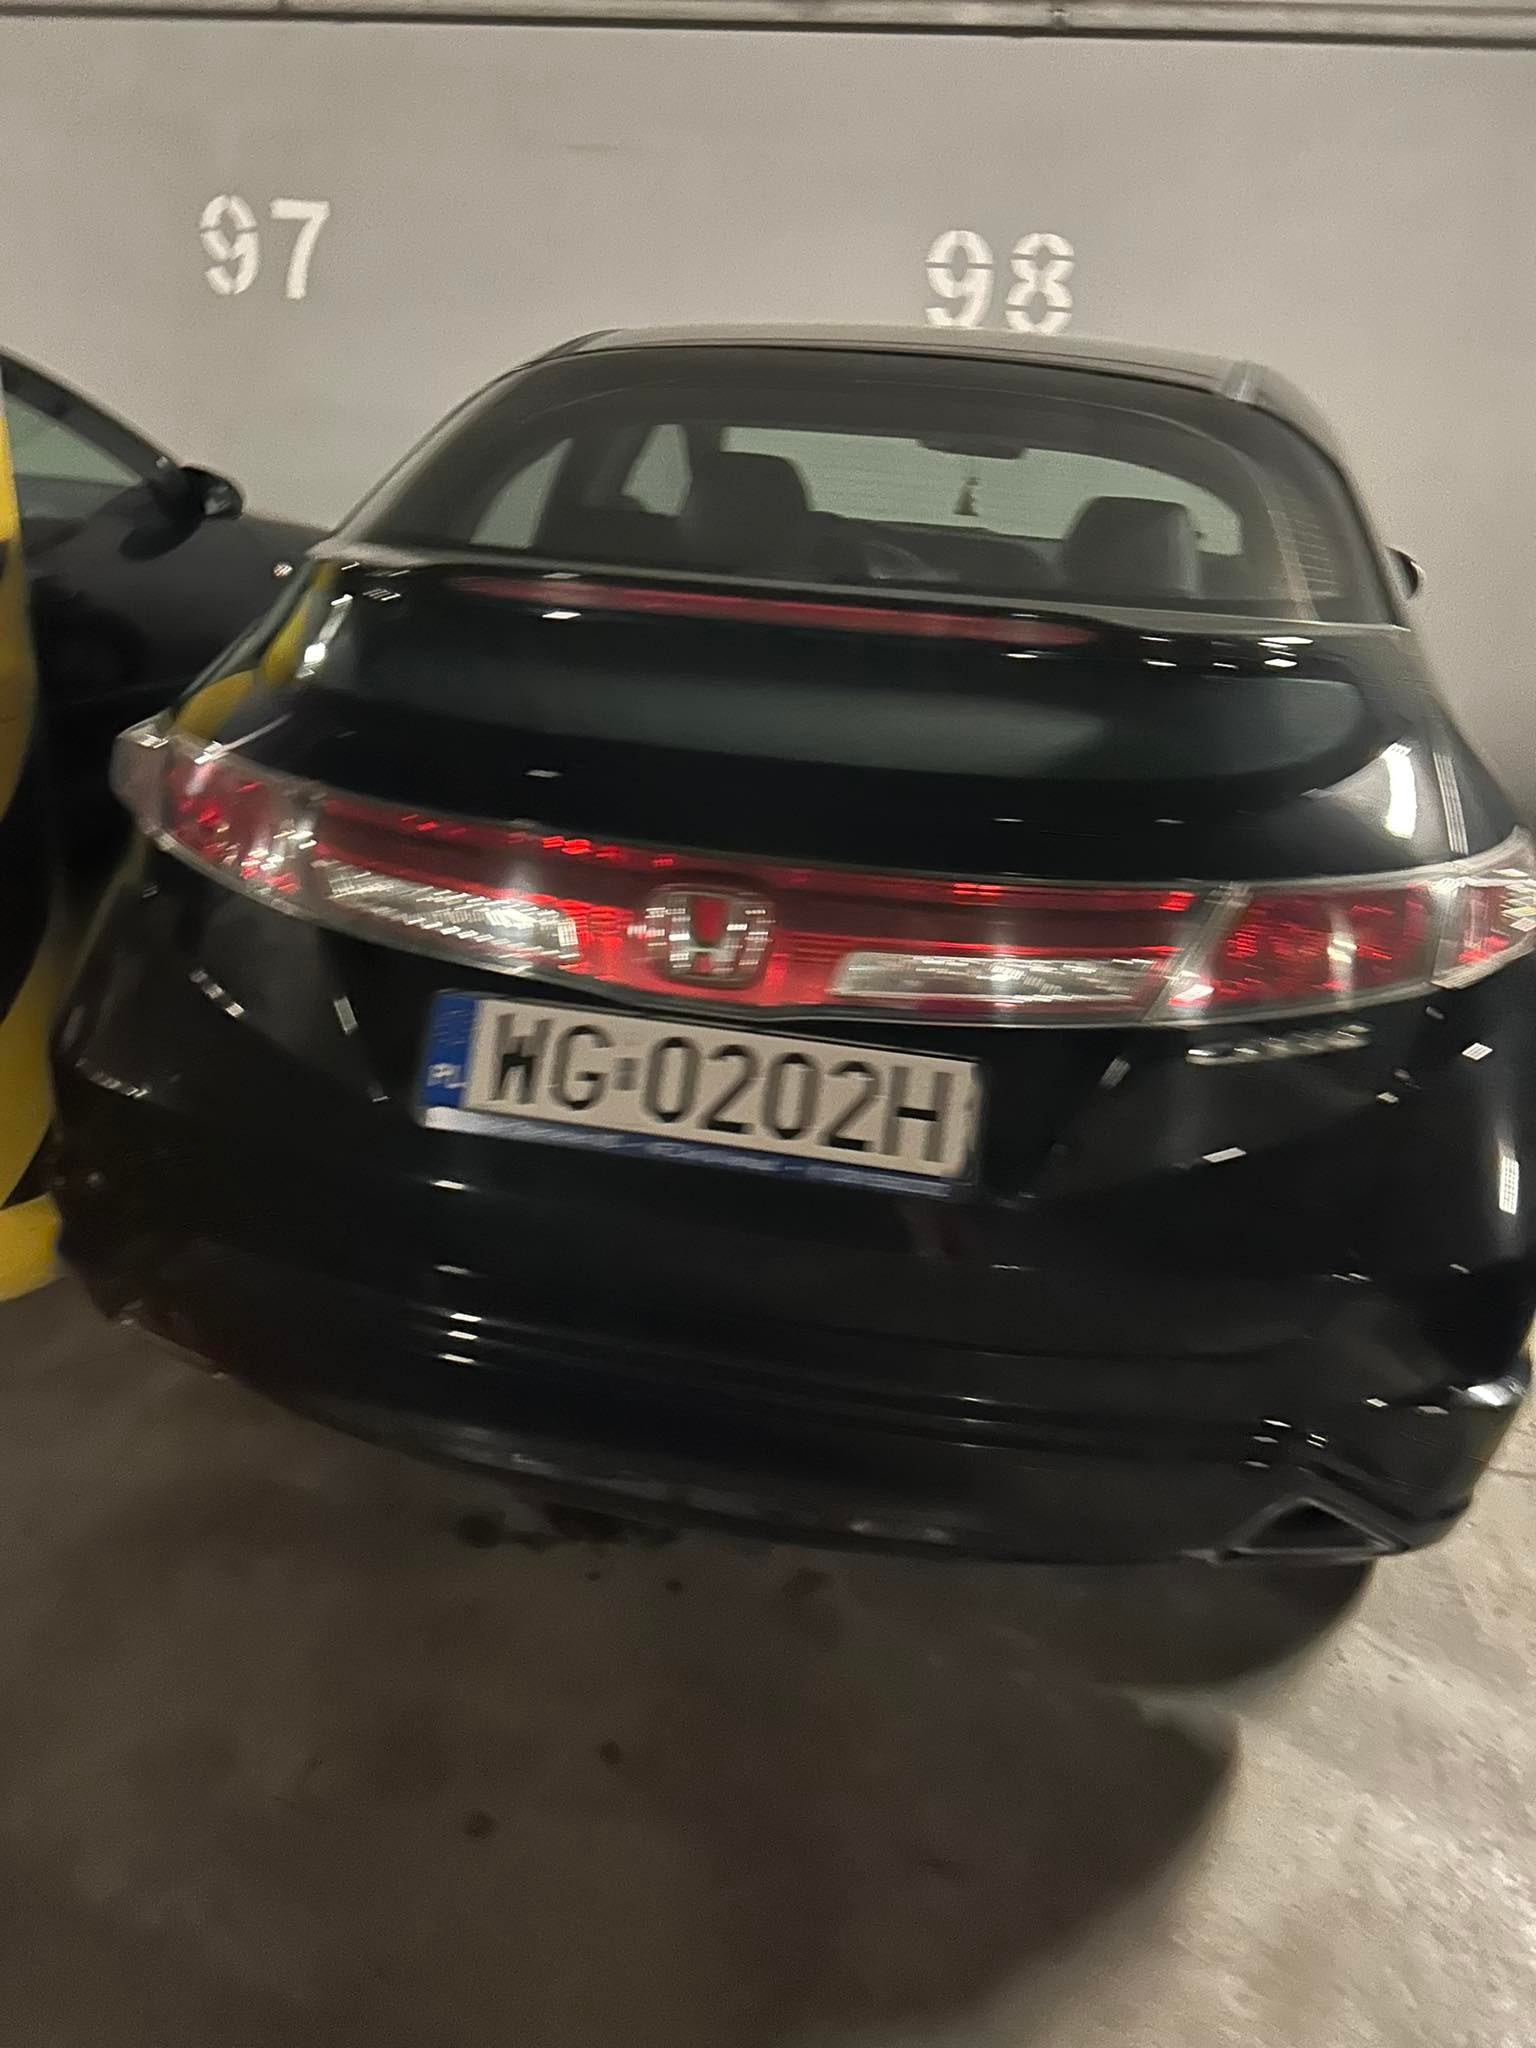number_plate: (410, 985, 985, 1205)
